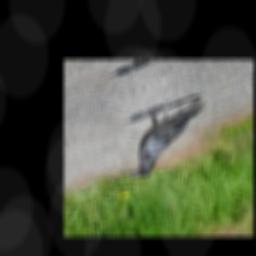Crow: (112, 85, 223, 184)
